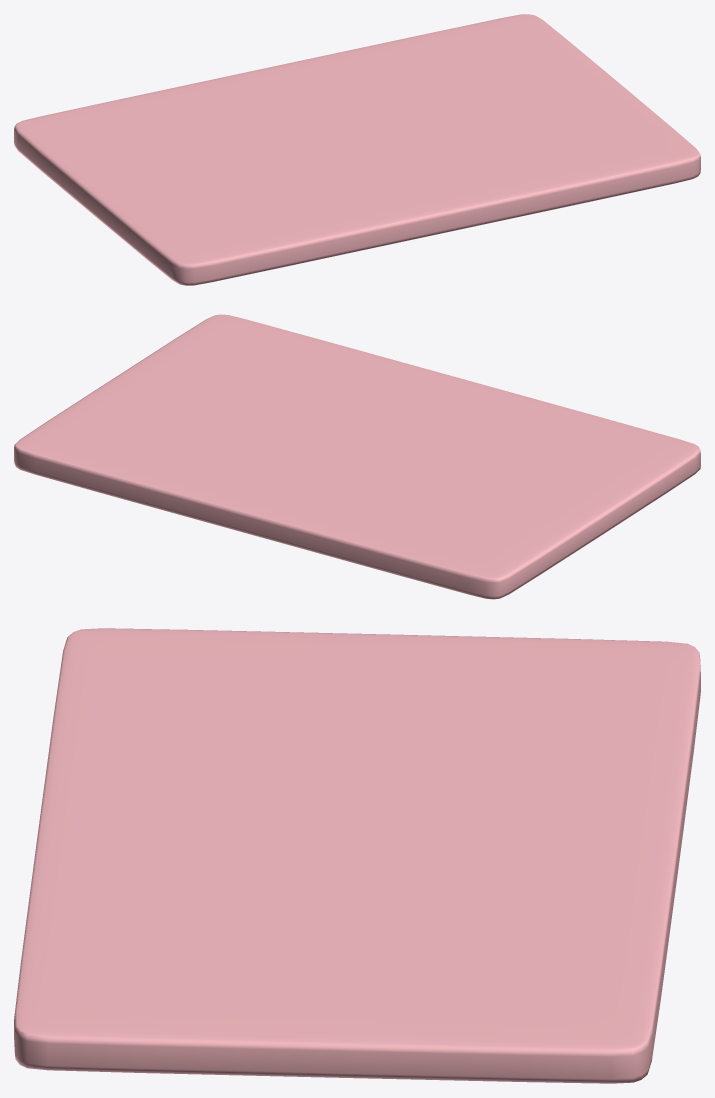
The model's file is PROP_PicnicBlanket_v0.glb.
3 renders of one model, top to bottom at view 1: azimuth 30°, elevation 25°; view 2: azimuth 150°, elevation 25°; view 3: azimuth 270°, elevation 25°, orthographic. The views are drawn at different scales.
Visible parts, largest first — view 1: PROP_PicnicBlanket_v0; view 2: PROP_PicnicBlanket_v0; view 3: PROP_PicnicBlanket_v0.
Boxes of the visible parts, box(x1,y1,x2,y2) form: PROP_PicnicBlanket_v0: box(14, 14, 700, 285); PROP_PicnicBlanket_v0: box(14, 314, 700, 599); PROP_PicnicBlanket_v0: box(14, 628, 700, 1083).
Bounding box in the file's own units: 1.44 × 0.0584 × 0.9855.
